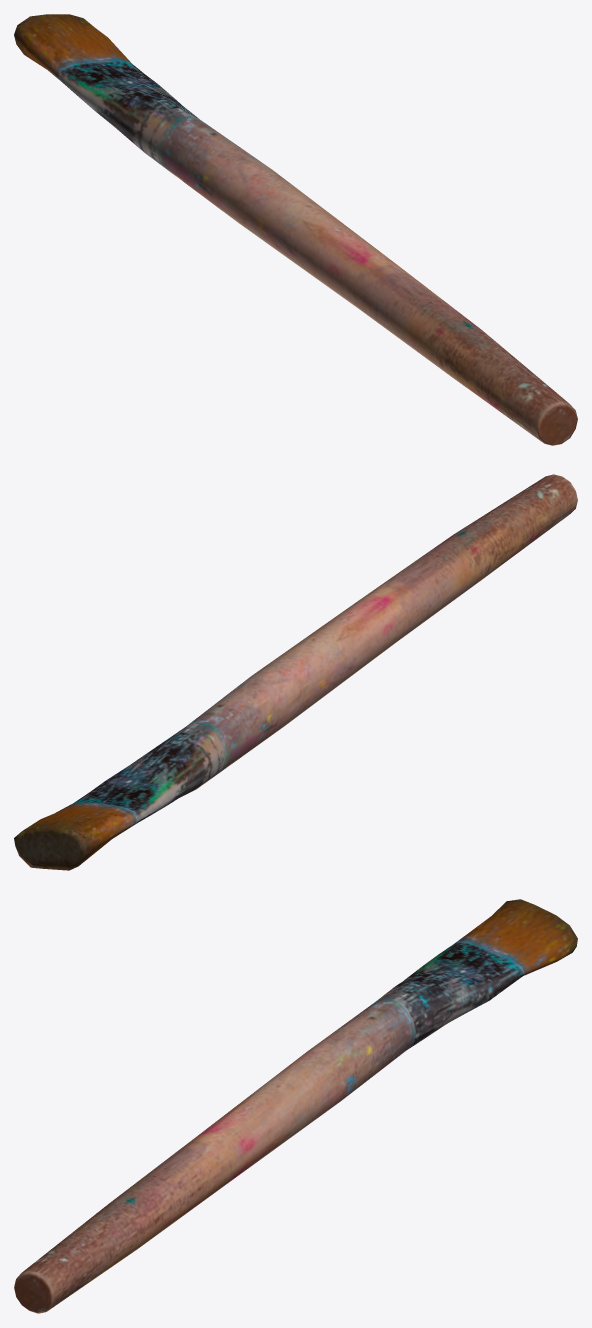
Rendered from SM_Brush_01a.fbx.
3 renders of one model, top to bottom at view 1: azimuth 30°, elevation 25°; view 2: azimuth 150°, elevation 25°; view 3: azimuth 330°, elevation 25°, orthographic. The views are drawn at different scales.
Parts seen in each view (by area): view 1: SM_Brush_01a; view 2: SM_Brush_01a; view 3: SM_Brush_01a.
Boxes of the visible parts, left/top/right/bottom form: SM_Brush_01a: left=14, top=14, right=577, bottom=445; SM_Brush_01a: left=14, top=474, right=577, bottom=870; SM_Brush_01a: left=14, top=899, right=577, bottom=1313.
Size of the model in its own units: 0.0253 by 0.2728 by 0.0163.
